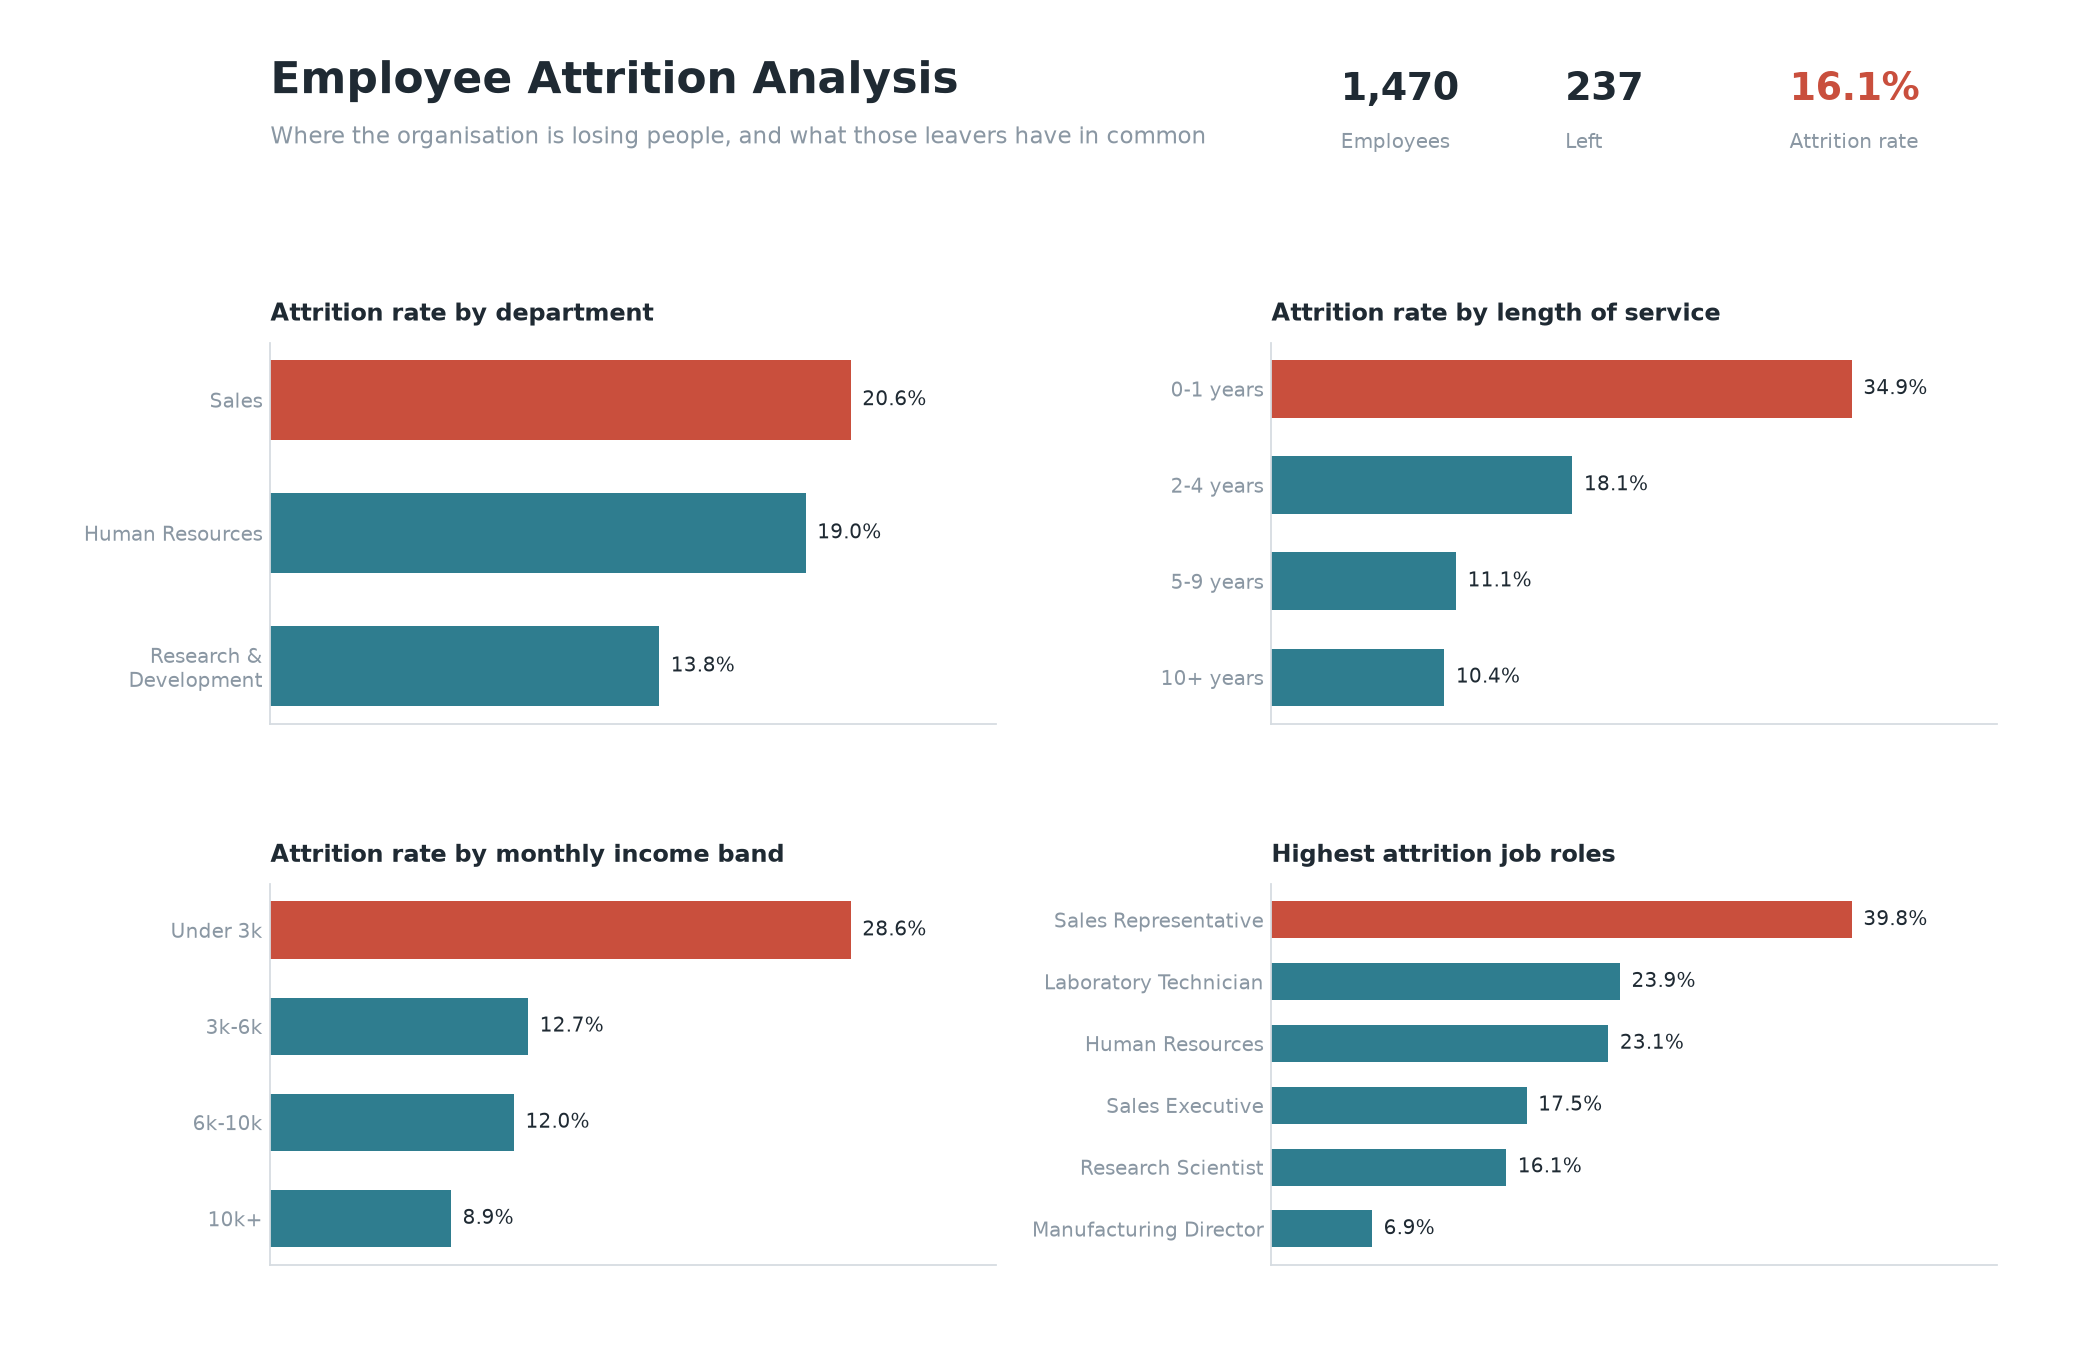

What the dashboard file says about the page in this screenshot:
{"tool":"powerbi","page":{"name":"Page 1","canvas":[1920,1080],"ordinal":0},"visuals":[{"type":"cardVisual","fields":{"Data":["employees.TotalEmployees"]},"box":[724,126,161.7,55],"z":1},{"type":"cardVisual","fields":{"Data":["employees.AttritionRate"]},"box":[960,126,161.7,55],"z":2},{"type":"clusteredBarChart","fields":{"Category":["employees.TenureBand"],"Y":["employees.AttritionRate"]},"box":[660,216.7,453.3,363.3],"z":3},{"type":"clusteredBarChart","fields":{"Category":["employees.IncomeBand"],"Y":["employees.AttritionRate"]},"box":[660,603.3,453.3,363.3],"z":4},{"type":"slicer","fields":{"Values":["employees.Department"]},"box":[1146.7,223.3,320,246],"z":5},{"type":"slicer","fields":{"Values":["employees.OverTime"]},"box":[1530,223.3,198,142],"z":6},{"type":"slicer","fields":{"Values":["employees.BusinessTravel"]},"box":[1146.7,603.3,248,142],"z":7},{"type":"textbox","box":[588.9,33.3,784.4,73.3],"z":8},{"type":"clusteredBarChart","title":"AttritionRate","fields":{"Category":["employees.Department"],"Y":["employees.AttritionRate"]},"box":[63.3,216.7,523.3,363.3],"z":9},{"type":"clusteredBarChart","fields":{"Category":["employees.JobRole"],"Y":["employees.AttritionRate"]},"box":[63.3,603.3,523.3,363.3],"z":10}]}

Visuals, with their boxes on the page's 1920x1080 design canvas (x1, y1, x2, y2). These are canvas units, not pixel positions in the 2080x1360 screenshot, which may show the page scaled, cropped or inside an application window:
cardVisual - employees.TotalEmployees: {"x1": 724, "y1": 126, "x2": 886, "y2": 181}
cardVisual - employees.AttritionRate: {"x1": 960, "y1": 126, "x2": 1122, "y2": 181}
clusteredBarChart - employees.TenureBand x employees.AttritionRate: {"x1": 660, "y1": 217, "x2": 1113, "y2": 580}
clusteredBarChart - employees.IncomeBand x employees.AttritionRate: {"x1": 660, "y1": 603, "x2": 1113, "y2": 967}
slicer - employees.Department: {"x1": 1147, "y1": 223, "x2": 1467, "y2": 469}
slicer - employees.OverTime: {"x1": 1530, "y1": 223, "x2": 1728, "y2": 365}
slicer - employees.BusinessTravel: {"x1": 1147, "y1": 603, "x2": 1395, "y2": 745}
textbox: {"x1": 589, "y1": 33, "x2": 1373, "y2": 107}
"AttritionRate" clusteredBarChart: {"x1": 63, "y1": 217, "x2": 587, "y2": 580}
clusteredBarChart - employees.JobRole x employees.AttritionRate: {"x1": 63, "y1": 603, "x2": 587, "y2": 967}
